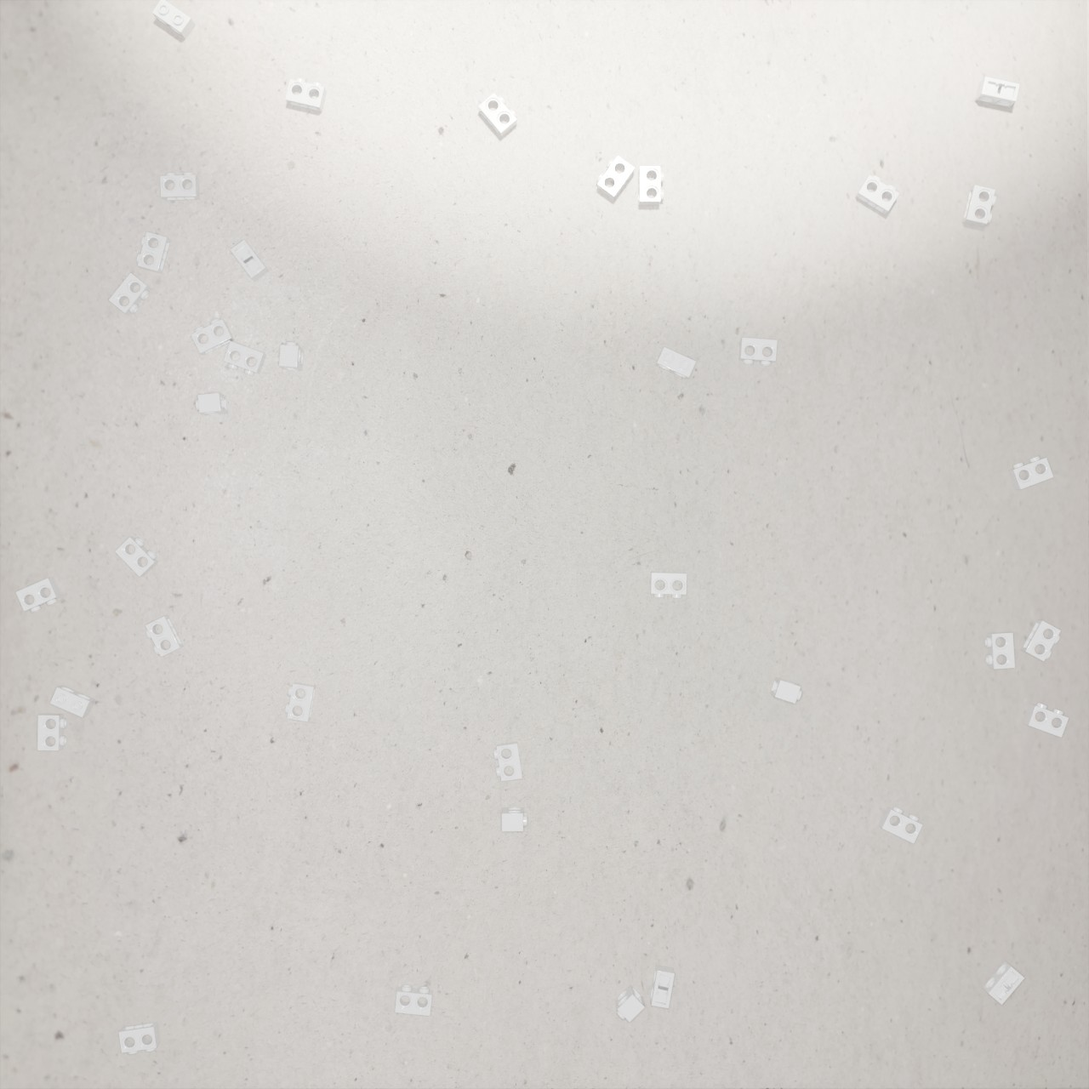lego: (108, 272, 151, 316), (982, 961, 1025, 1005), (478, 92, 518, 138), (855, 175, 900, 215), (115, 537, 159, 577), (596, 156, 635, 201), (1020, 620, 1061, 662), (152, 0, 196, 39), (878, 806, 923, 844), (230, 239, 269, 282), (191, 318, 235, 356), (1023, 702, 1069, 738), (15, 578, 62, 613), (145, 615, 184, 657), (1008, 456, 1054, 490), (223, 341, 267, 376), (50, 685, 95, 718), (136, 232, 171, 274), (962, 185, 996, 228), (285, 78, 327, 112), (118, 1022, 161, 1055), (976, 76, 1020, 107), (655, 347, 696, 380), (285, 682, 316, 722), (493, 741, 523, 781), (395, 985, 433, 1016), (160, 172, 200, 201), (37, 713, 67, 751), (615, 984, 645, 1022), (738, 337, 777, 366), (985, 632, 1015, 669), (650, 965, 675, 1009), (638, 166, 664, 205), (650, 572, 687, 598), (770, 677, 802, 704), (195, 393, 228, 416), (279, 342, 304, 371), (502, 807, 527, 832)
